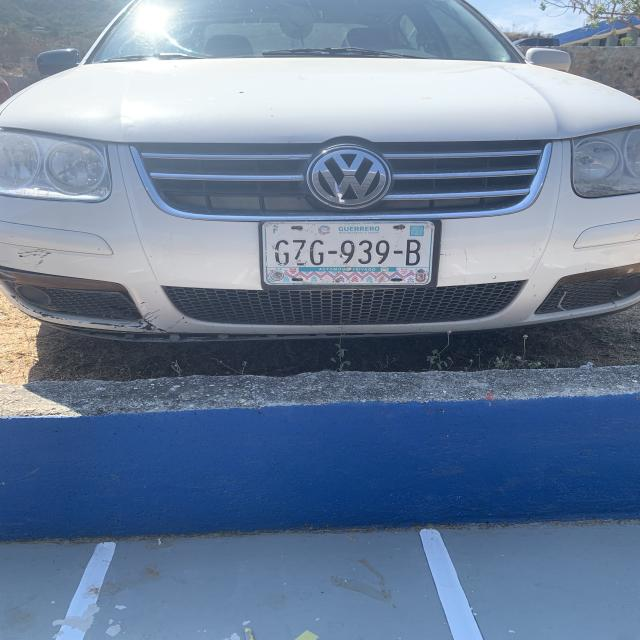placa: (264, 236, 430, 273)
